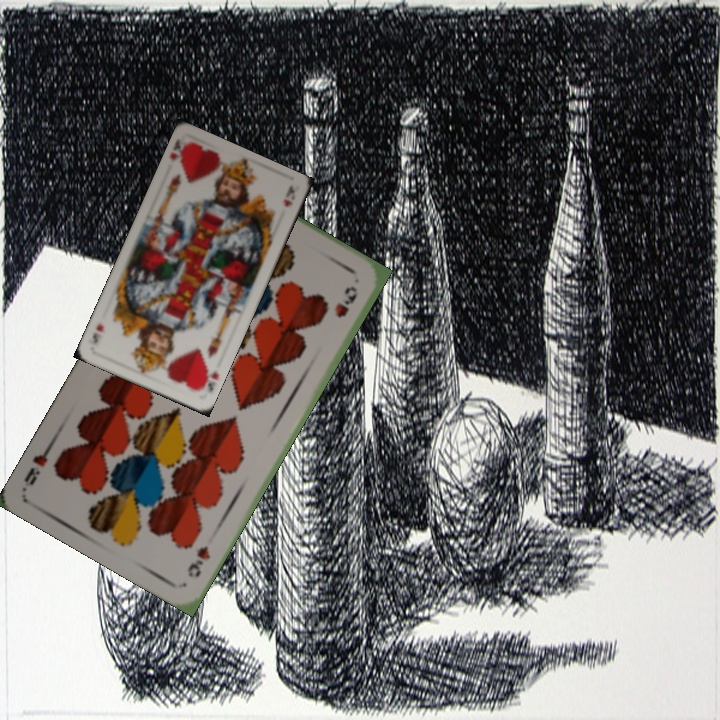H9: (183, 542, 213, 580)
HK: (165, 135, 185, 169), (200, 365, 221, 394)
